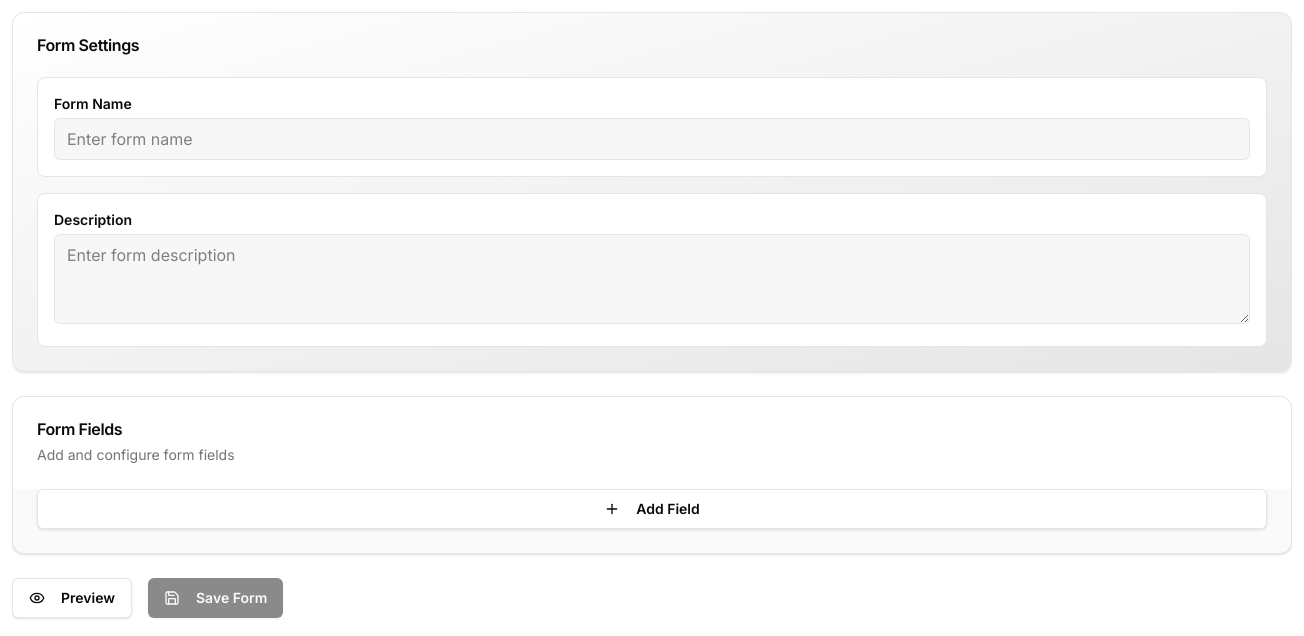
Test case: FormBuilderUI › Preview Mode › displays form name in preview
The width and height of the screenshot is (1304, 636).
// Set form name
Type "Test Form" into the field with placeholder "Enter form name" at {"x": 652, "y": 139}, box x1=54 y1=118 x2=1250 y2=160
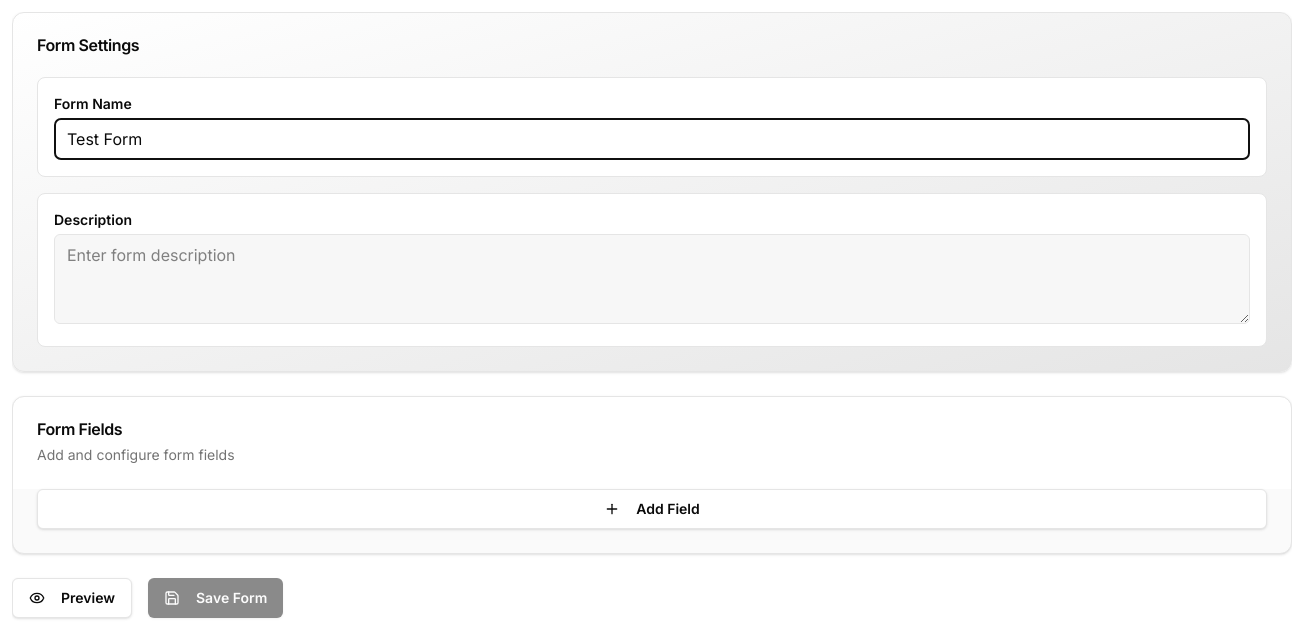
// Switch to preview
Click the button "Preview" at {"x": 72, "y": 598}, box x1=12 y1=578 x2=132 y2=618
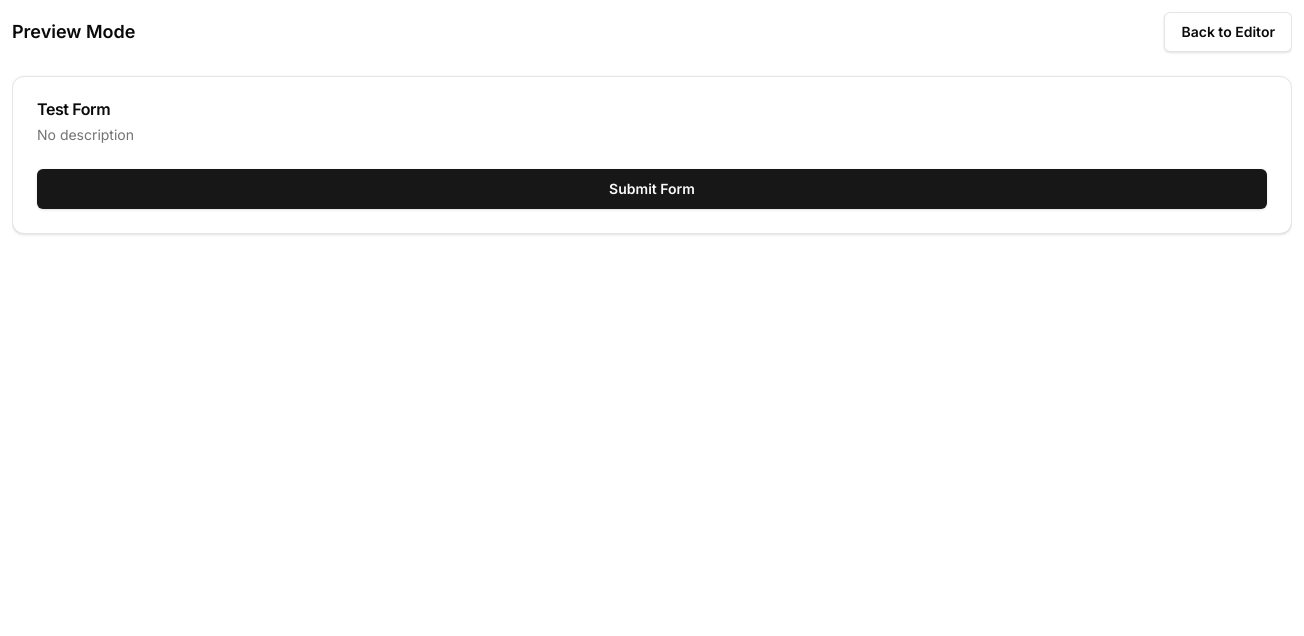
Result: the text "Test Form" is shown at x1=37 y1=99 x2=110 y2=119
